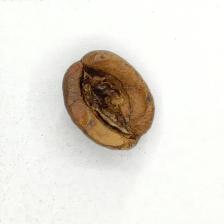NG: (77, 60, 142, 135)
